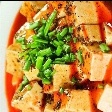mapodoufu: (4, 0, 112, 112)
